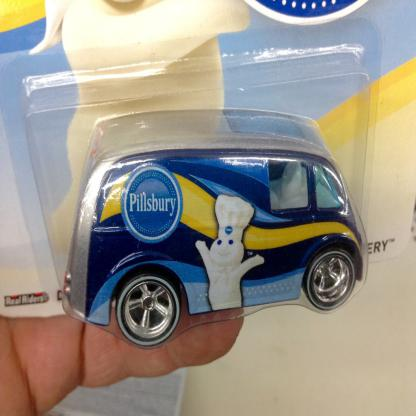Car: (64, 151, 361, 348)
